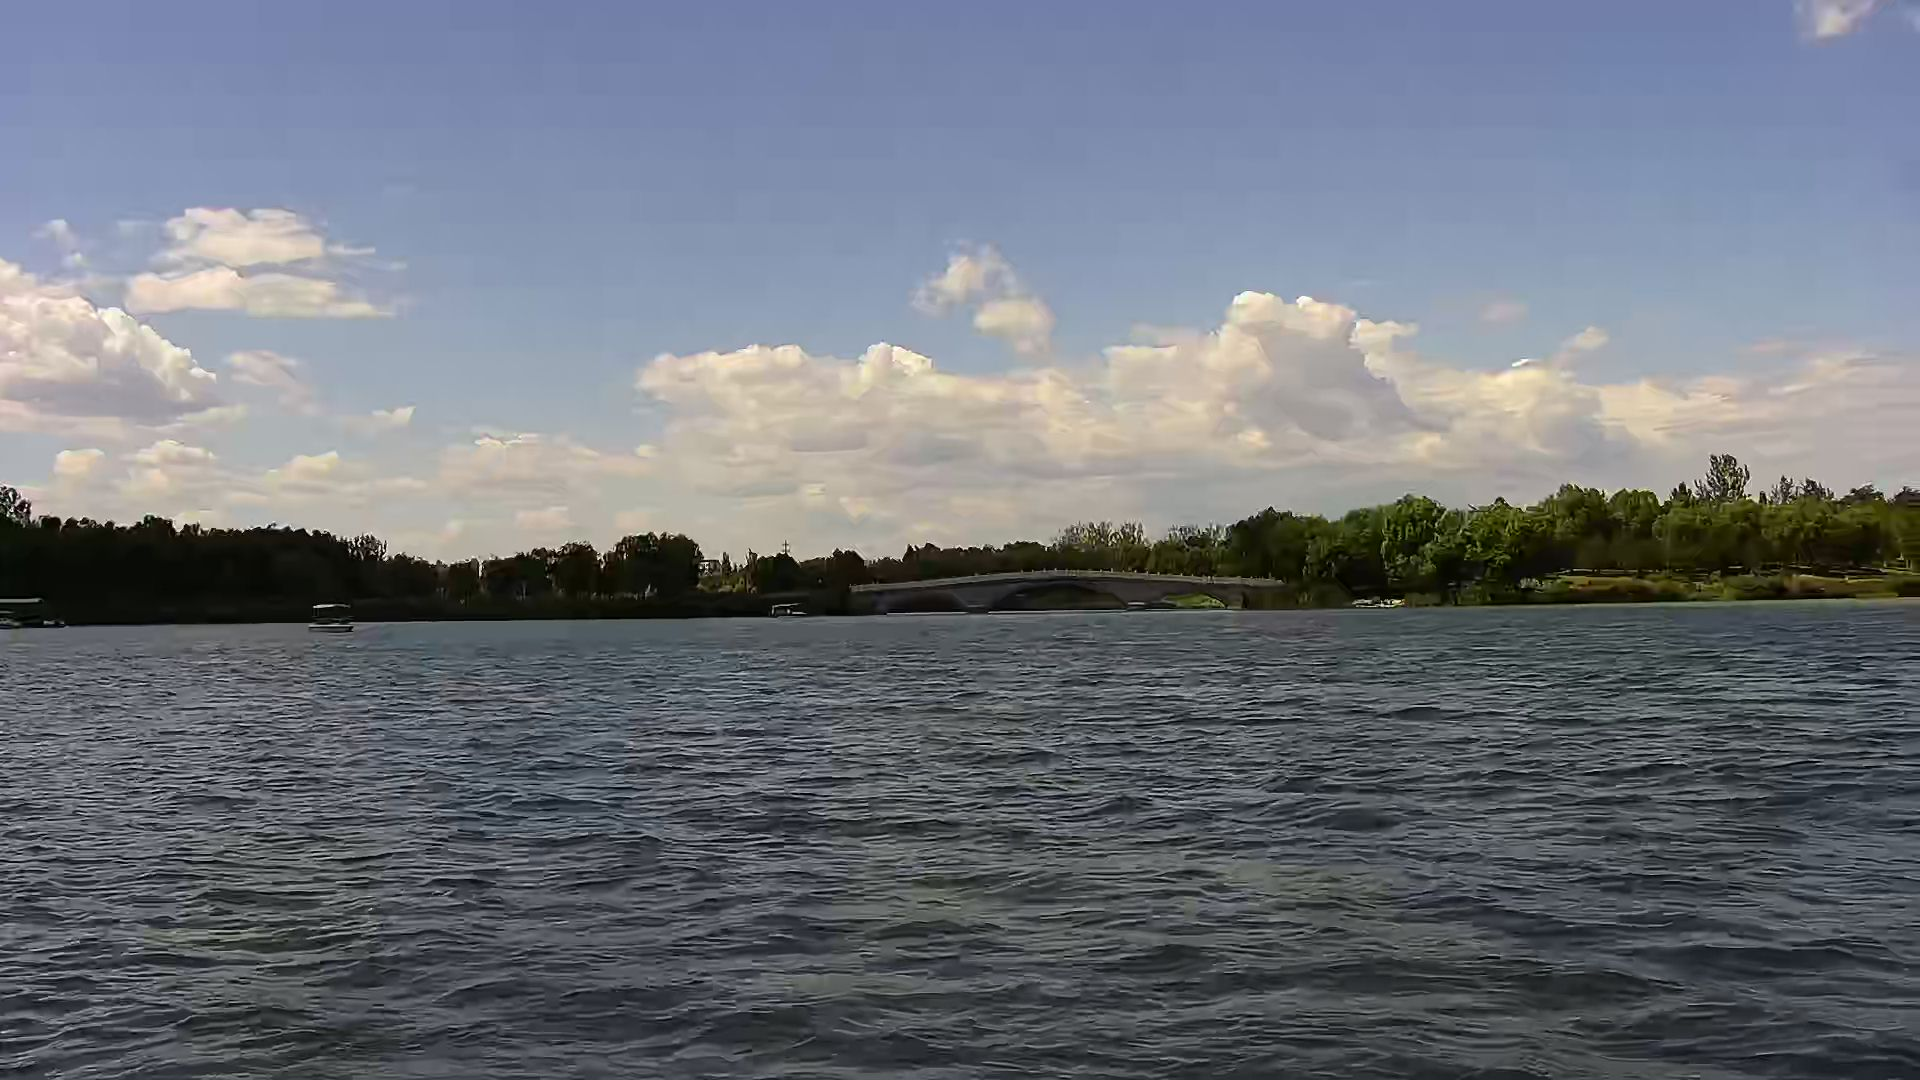boat: (303, 593, 367, 644)
bridge: (848, 564, 1284, 617)
